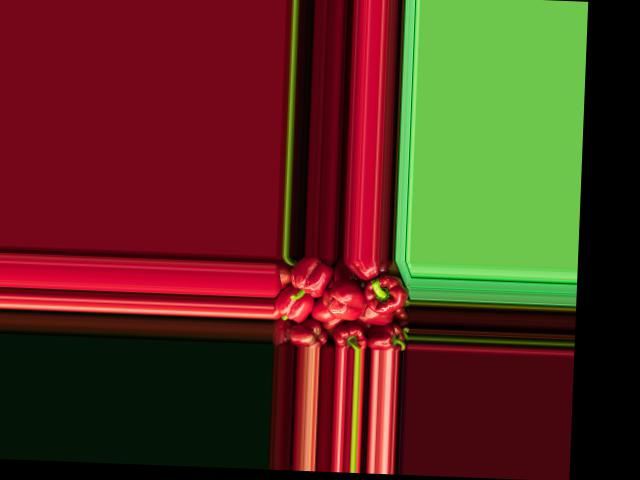bell_pepper: (369, 323, 406, 351)
